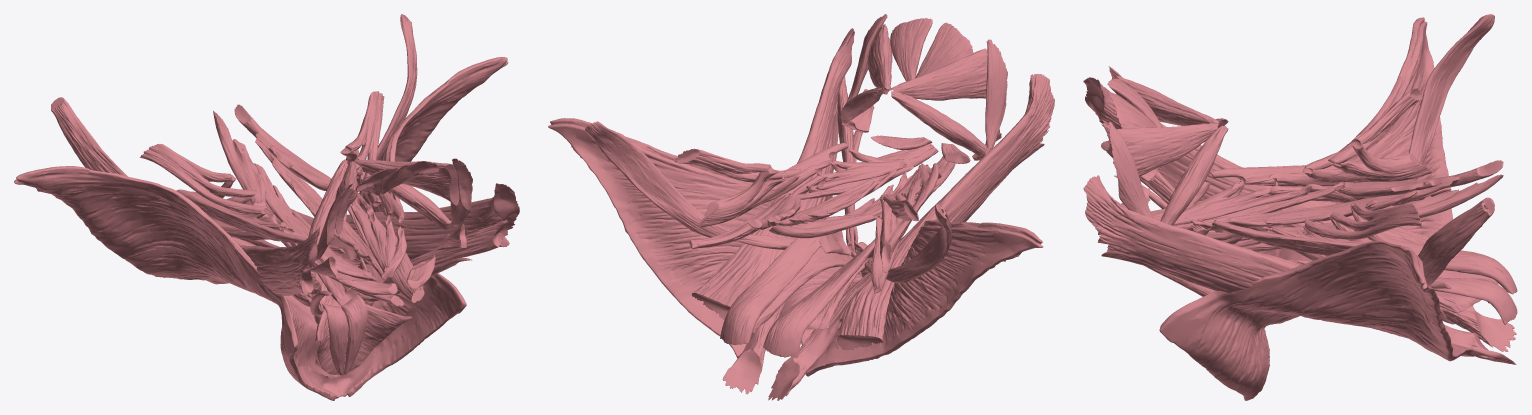
File: cou-muscles.glb
3 renders of one model, left to right at view 1: azimuth 30°, elevation 25°; view 2: azimuth 150°, elevation 25°; view 3: azimuth 270°, elevation 25°, orthographic. The views are drawn at different scales.
Visible parts, largest first — view 1: platysma_droit, platysma_gauche, sterno_cleido_mastoidien_gauche, sterno_cleido_mastoidien_droit, scalene_posterieur_droit, omo_hyoidien_droit, scalene_moyen_droit, long_du_cou_partie_verticale_intermediaire_gauche, long_du_cou_partie_oblique_superieure_gauche, long_du_cou_partie_oblique_inferieure_gauche, grand_droit_posterieur_de_la_tete_gauche, long_du_cou_partie_oblique_inferieure_droit (+24 smaller); view 2: platysma_gauche, sterno_cleido_mastoidien_droit, platysma_droit, sterno_cleido_mastoidien_gauche, omo_hyoidien_gauche, sterno_thyroidien_gauche, sterno_thyroidien_droit, scalene_moyen_gauche, grand_droit_posterieur_de_la_tete_droit, omo_hyoidien_droit, oblique_superieur_de_la_tete_droit, oblique_inferieur_de_la_tete_droit (+23 smaller); view 3: platysma_gauche, sterno_cleido_mastoidien_gauche, platysma_droit, sterno_cleido_mastoidien_droit, scalene_moyen_droit, omo_hyoidien_droit, grand_droit_posterieur_de_la_tete_gauche, long_du_cou_partie_verticale_intermediaire_droit, scalene_moyen_gauche, omo_hyoidien_gauche, scalene_posterieur_gauche, long_du_cou_partie_oblique_superieure_droit (+17 smaller).
Boxes of the visible parts, left/top/right/bottom form: platysma_droit: left=14, top=166, right=340, bottom=400; platysma_gauche: left=308, top=57, right=508, bottom=396; sterno_cleido_mastoidien_gauche: left=346, top=183, right=519, bottom=264; sterno_cleido_mastoidien_droit: left=239, top=226, right=320, bottom=295; scalene_posterieur_droit: left=140, top=144, right=267, bottom=214; omo_hyoidien_droit: left=51, top=97, right=310, bottom=306; scalene_moyen_droit: left=176, top=174, right=307, bottom=243; long_du_cou_partie_verticale_intermediaire_gauche: left=255, top=139, right=387, bottom=279; long_du_cou_partie_oblique_superieure_gauche: left=351, top=205, right=406, bottom=277; long_du_cou_partie_oblique_inferieure_gauche: left=234, top=104, right=331, bottom=190; grand_droit_posterieur_de_la_tete_gauche: left=355, top=159, right=459, bottom=205; long_du_cou_partie_oblique_inferieure_droit: left=213, top=110, right=265, bottom=210; platysma_gauche: left=548, top=118, right=862, bottom=358; sterno_cleido_mastoidien_droit: left=768, top=74, right=1054, bottom=400; platysma_droit: left=801, top=220, right=1043, bottom=376; sterno_cleido_mastoidien_gauche: left=691, top=28, right=854, bottom=394; omo_hyoidien_gauche: left=585, top=121, right=796, bottom=249; sterno_thyroidien_gauche: left=720, top=219, right=821, bottom=344; sterno_thyroidien_droit: left=763, top=239, right=875, bottom=357; scalene_moyen_gauche: left=698, top=142, right=848, bottom=227; grand_droit_posterieur_de_la_tete_droit: left=889, top=48, right=987, bottom=100; omo_hyoidien_droit: left=864, top=204, right=951, bottom=283; oblique_superieur_de_la_tete_droit: left=985, top=39, right=1007, bottom=149; oblique_inferieur_de_la_tete_droit: left=891, top=91, right=986, bottom=156; platysma_gauche: left=1159, top=241, right=1477, bottom=400; sterno_cleido_mastoidien_gauche: left=1083, top=175, right=1516, bottom=364; platysma_droit: left=1214, top=17, right=1475, bottom=357; sterno_cleido_mastoidien_droit: left=1083, top=77, right=1516, bottom=351; scalene_moyen_droit: left=1210, top=140, right=1431, bottom=186; omo_hyoidien_droit: left=1356, top=14, right=1494, bottom=231; grand_droit_posterieur_de_la_tete_gauche: left=1116, top=123, right=1219, bottom=176; long_du_cou_partie_verticale_intermediaire_droit: left=1173, top=181, right=1452, bottom=231; scalene_moyen_gauche: left=1212, top=204, right=1418, bottom=255; omo_hyoidien_gauche: left=1418, top=197, right=1494, bottom=285; scalene_posterieur_gauche: left=1304, top=203, right=1422, bottom=239; long_du_cou_partie_oblique_superieure_droit: left=1157, top=181, right=1300, bottom=225.
Size of the model in its own units: 273 by 147 by 188.
